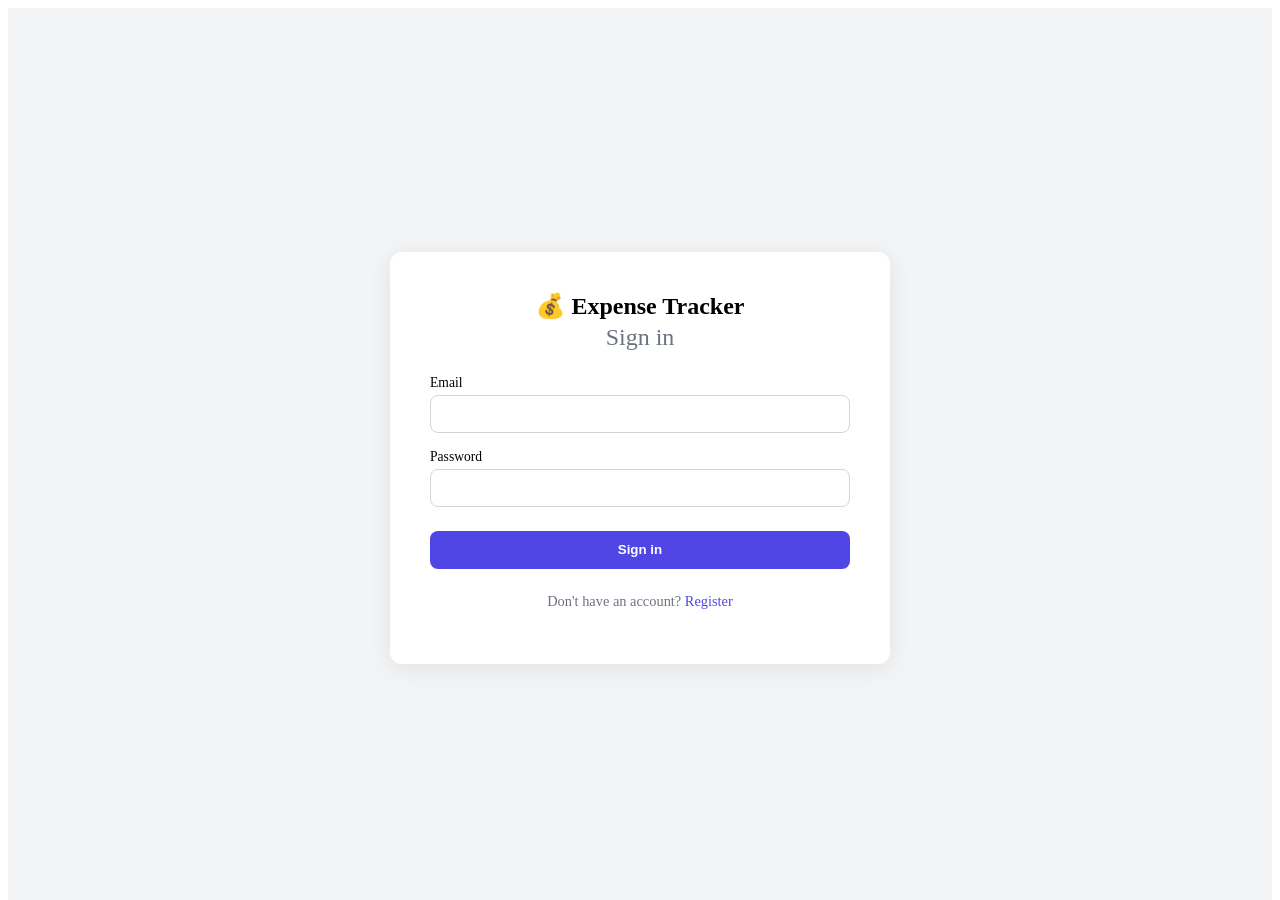
LoginPage › shows validation errors when form is submitted empty
Click the button "Sign in".
click(640, 550)  # box top-left (430, 531), bottom-right (850, 569)
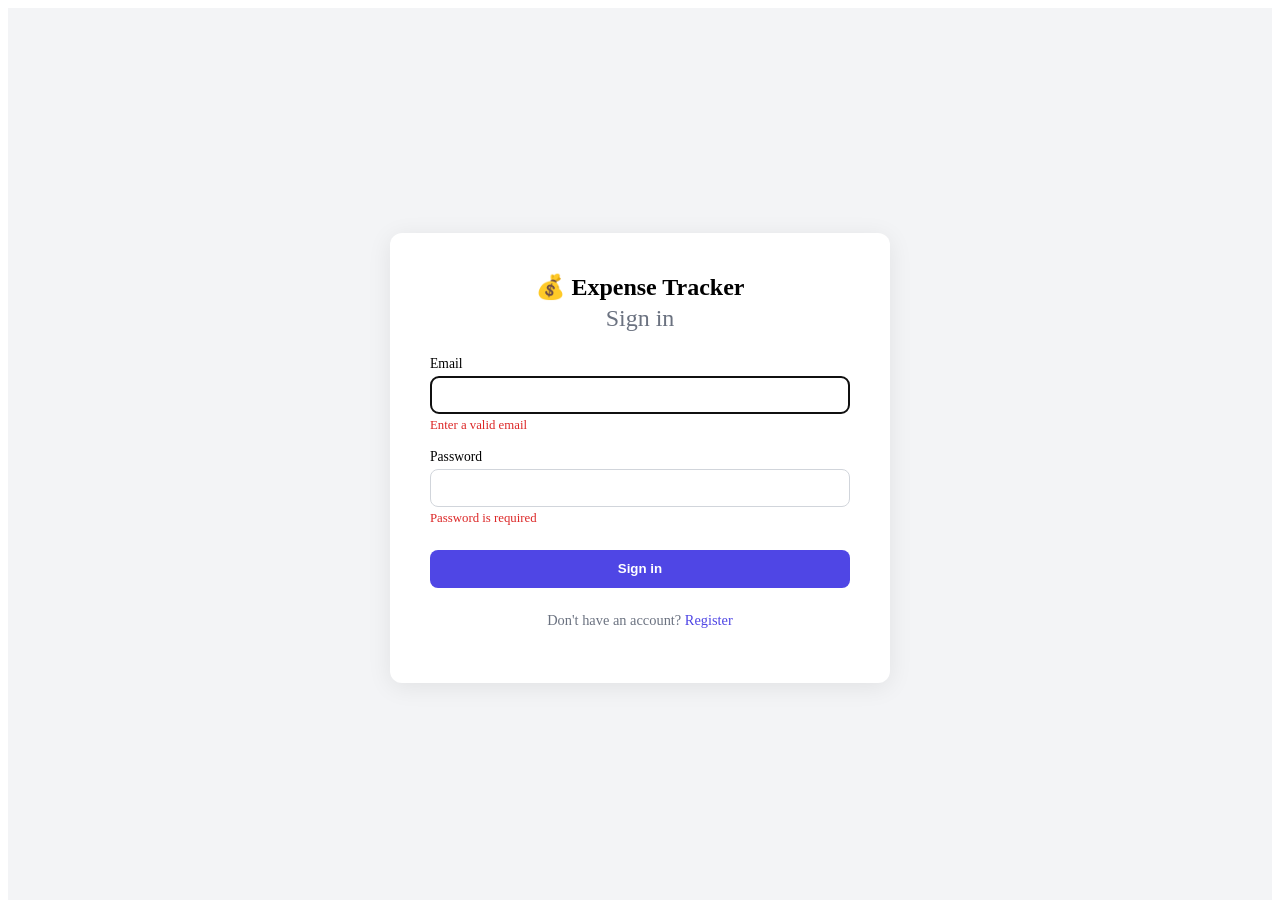
Check: the text "Enter a valid email" is shown, box top-left (430, 418), bottom-right (527, 432)
